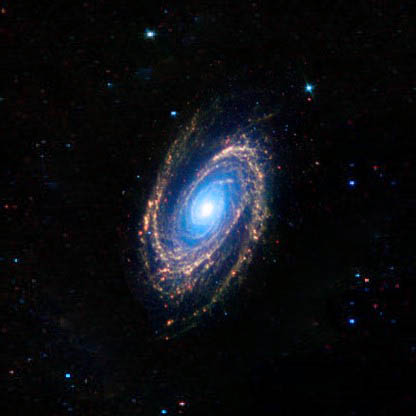Messier 81: (126, 72, 333, 345)
